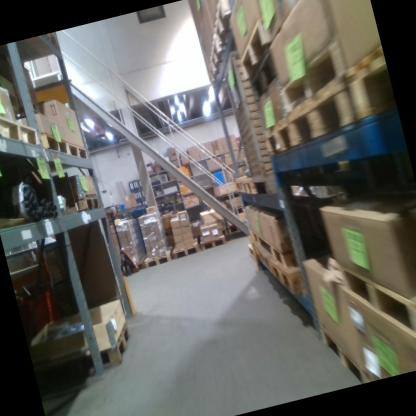pallet: (337, 245, 416, 357), (278, 70, 361, 148), (270, 37, 353, 113), (44, 319, 137, 380), (340, 45, 398, 123), (316, 315, 364, 389), (230, 12, 280, 81), (0, 105, 43, 158), (269, 249, 309, 299), (206, 0, 240, 51), (260, 112, 296, 157), (264, 231, 301, 272), (38, 126, 71, 164), (205, 34, 226, 76), (142, 245, 175, 270), (72, 193, 103, 219), (66, 137, 91, 168), (256, 241, 277, 277), (171, 239, 202, 260), (200, 233, 227, 252), (248, 226, 265, 251), (242, 176, 257, 197), (207, 62, 218, 83), (234, 178, 246, 195)
pallet_truck: (101, 197, 144, 279)
stillage: (217, 42, 281, 199)
